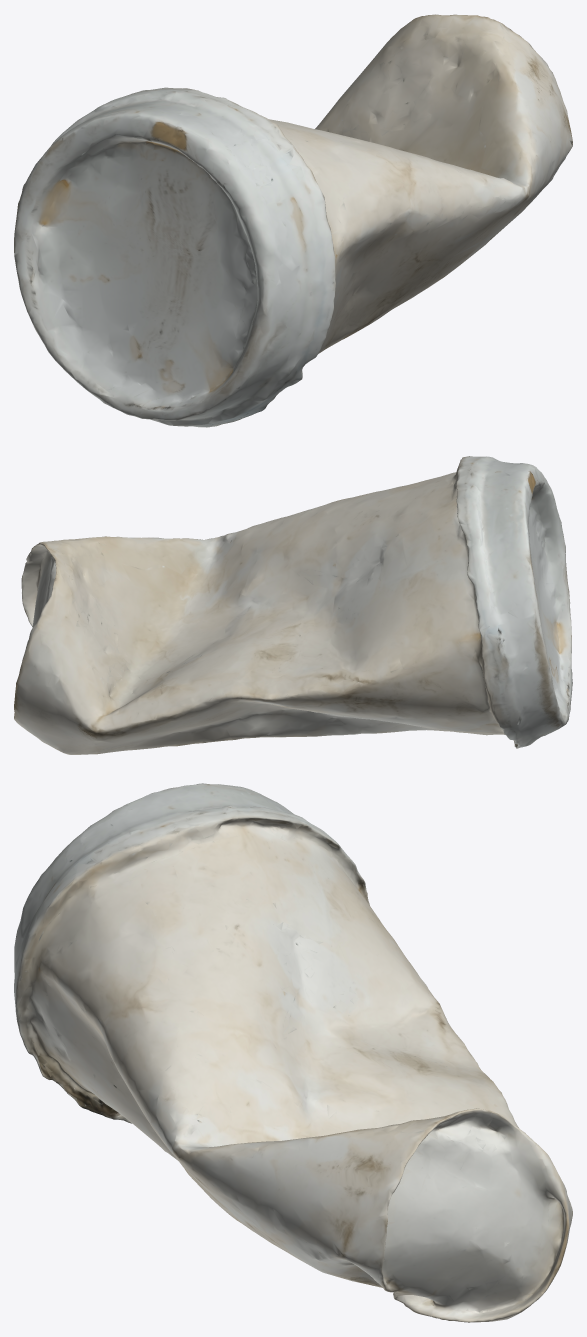
The model's file is RenderCrate-Paper_Cup_Trash.obj.
The picture shows the model from 3 angles, top to bottom: view 1: azimuth 30°, elevation 25°; view 2: azimuth 150°, elevation 25°; view 3: azimuth 270°, elevation 25°; orthographic projection. The views are drawn at different scales.
Visible parts, largest first — view 1: Paper_Cup; view 2: Paper_Cup; view 3: Paper_Cup.
Boxes of the visible parts, left/top/right/bottom form: Paper_Cup: left=14, top=14, right=572, bottom=427; Paper_Cup: left=14, top=456, right=572, bottom=754; Paper_Cup: left=14, top=783, right=572, bottom=1322.
Bounding box in the file's own units: 7.36 × 3.7 × 5.7.
1 material, 1 textured.
